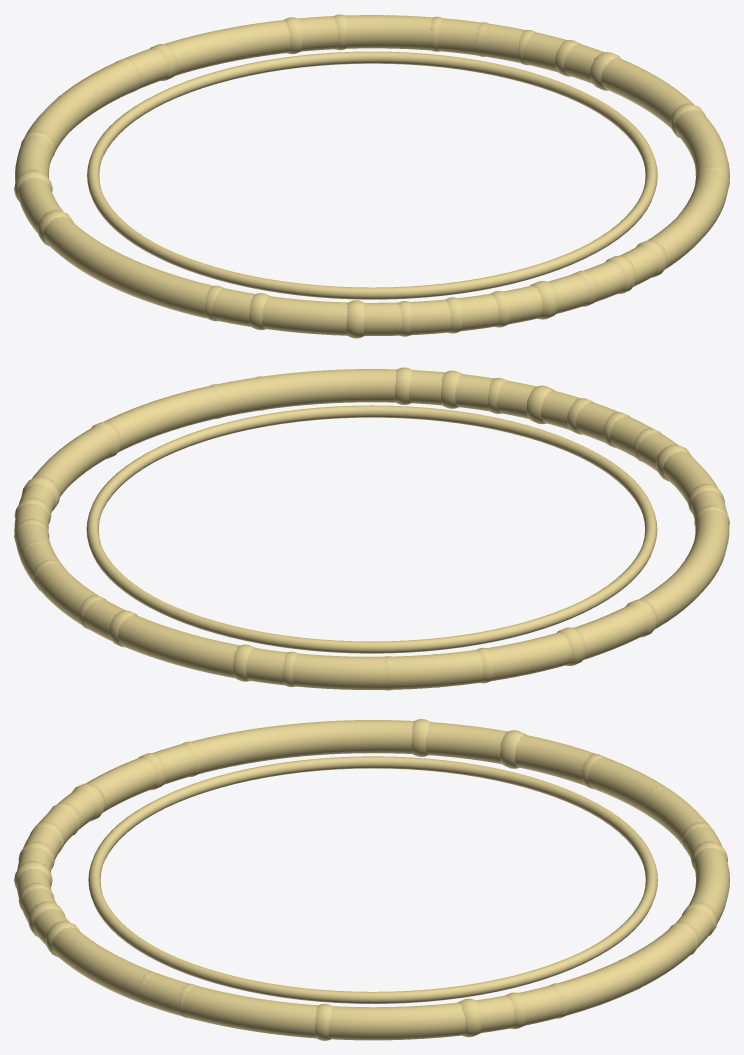
Rendered from filigree.glb.
The picture shows the model from 3 angles, top to bottom: view 1: azimuth 30°, elevation 25°; view 2: azimuth 150°, elevation 25°; view 3: azimuth 270°, elevation 25°; orthographic projection.
Visible parts, largest first — view 1: Torus; view 2: Torus; view 3: Torus.
Part boxes in pixels (x1,y1,x2,y2): Torus: [14, 14, 729, 338]; Torus: [14, 367, 729, 690]; Torus: [14, 719, 729, 1040].
Bounding box in the file's own units: 0.9968 × 0.0541 × 1.
